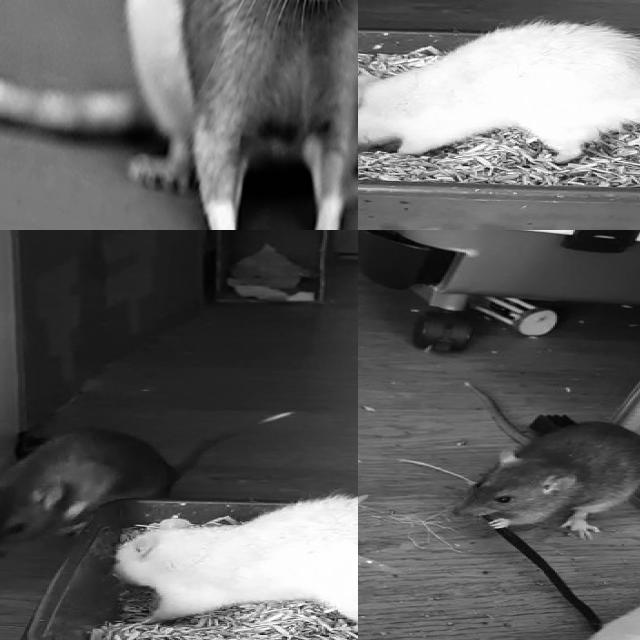rat: (133, 0, 358, 230), (358, 21, 640, 160), (110, 496, 358, 626), (0, 428, 183, 561), (450, 420, 640, 541)
